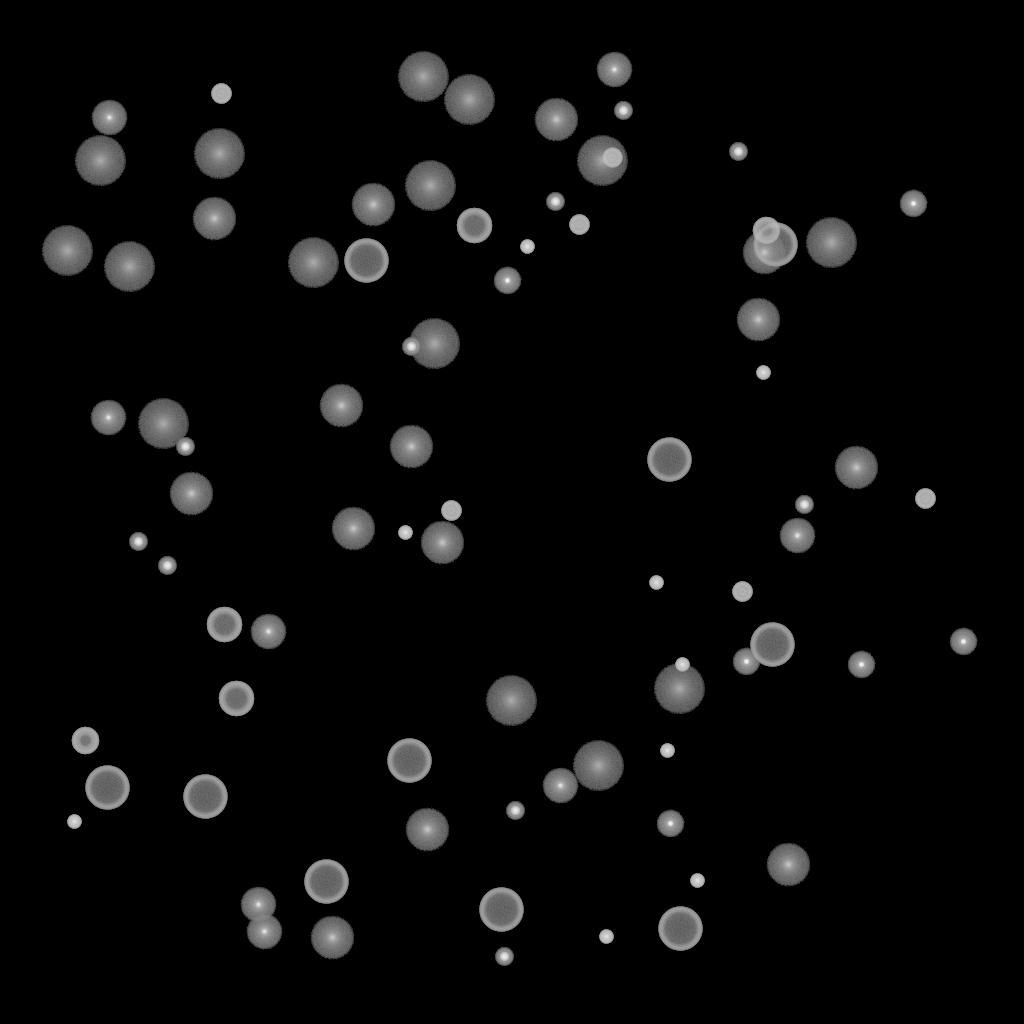depth:-10: (847, 651, 875, 679), (899, 190, 927, 218), (493, 267, 521, 295), (656, 810, 684, 838), (949, 628, 977, 656), (732, 648, 760, 676)
depth:-20: (506, 802, 524, 820), (402, 338, 420, 356), (158, 557, 176, 575), (495, 948, 513, 966), (795, 496, 813, 514), (546, 193, 564, 211), (729, 143, 747, 161), (176, 438, 194, 456), (129, 533, 147, 551), (614, 102, 632, 120)
depth:-30: (599, 930, 613, 944), (67, 815, 81, 829), (398, 526, 412, 540), (520, 240, 534, 254), (660, 744, 674, 758), (649, 576, 663, 590), (690, 874, 704, 888), (675, 658, 689, 672), (756, 366, 770, 380)
depth:-40: (441, 501, 461, 521), (602, 148, 622, 168), (211, 84, 231, 104), (915, 489, 935, 509), (569, 215, 589, 235), (732, 582, 752, 602)
depth:-50: (71, 727, 99, 755), (752, 217, 780, 245)
depth:-60: (218, 681, 254, 717), (456, 208, 492, 244), (206, 607, 242, 643)
depth:-70: (753, 223, 797, 267), (183, 775, 227, 819), (344, 239, 388, 283), (658, 907, 702, 951), (387, 739, 431, 783), (479, 888, 523, 932), (750, 623, 794, 667), (647, 438, 691, 482), (85, 766, 129, 810), (304, 860, 348, 904)
depth:0: (240, 887, 276, 923), (246, 914, 282, 950), (91, 100, 127, 136), (90, 400, 126, 436), (542, 768, 578, 804), (250, 614, 286, 650), (779, 518, 815, 554), (596, 52, 632, 88)
depth:10: (534, 98, 578, 142), (310, 916, 354, 960), (420, 521, 464, 565), (319, 384, 363, 428), (405, 808, 449, 852), (169, 472, 213, 516), (742, 231, 786, 275), (192, 197, 236, 241), (766, 843, 810, 887), (834, 446, 878, 490), (351, 183, 395, 227), (736, 298, 780, 342), (331, 507, 375, 551), (389, 425, 433, 469)
depth:20: (103, 242, 155, 292), (485, 676, 537, 726), (41, 226, 93, 276), (572, 741, 624, 791), (137, 399, 189, 449), (443, 75, 495, 125), (74, 136, 126, 186), (576, 136, 628, 186), (805, 218, 857, 268), (404, 161, 456, 211), (408, 319, 460, 369), (397, 52, 449, 102), (287, 238, 339, 288), (653, 664, 705, 714), (193, 129, 245, 179)
